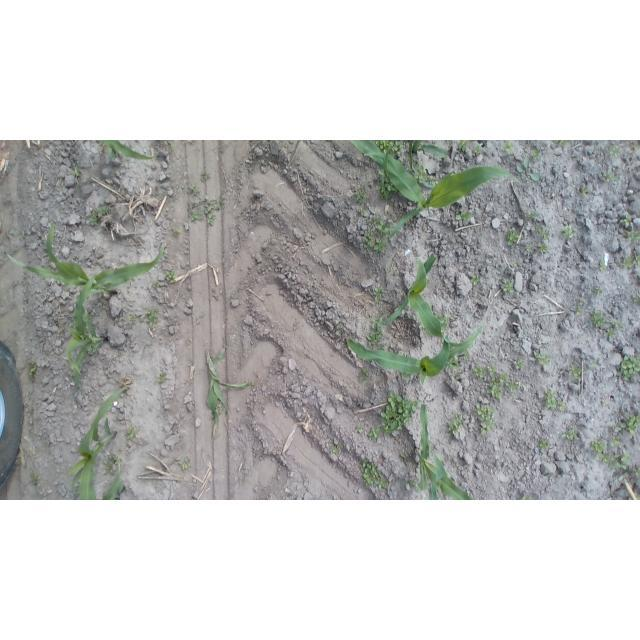Maize: (341, 140, 517, 240), (5, 220, 168, 293), (341, 325, 489, 385), (69, 381, 132, 500), (377, 249, 452, 347), (410, 401, 475, 500), (65, 270, 107, 393), (86, 140, 159, 164), (404, 140, 458, 166)
Weeds: (186, 173, 226, 228), (382, 388, 420, 434), (472, 363, 506, 403), (363, 215, 391, 254), (359, 457, 388, 491), (475, 401, 497, 436), (615, 350, 640, 378), (599, 451, 630, 473), (516, 157, 542, 183), (377, 170, 400, 199), (371, 140, 408, 158), (615, 412, 640, 436), (410, 164, 434, 189), (455, 140, 489, 157), (542, 389, 564, 412), (104, 451, 121, 477), (446, 411, 465, 433), (589, 309, 608, 331), (144, 305, 161, 329), (622, 249, 640, 270), (441, 356, 464, 372), (364, 330, 384, 348), (350, 185, 370, 203), (621, 225, 640, 243), (499, 279, 517, 297), (590, 436, 607, 454), (533, 349, 549, 368), (370, 284, 386, 303), (367, 426, 384, 443), (562, 425, 578, 443), (618, 212, 636, 228), (608, 142, 624, 160), (153, 372, 172, 387), (406, 477, 426, 491), (573, 296, 587, 316), (26, 363, 39, 384), (455, 211, 473, 226), (96, 204, 115, 218), (601, 325, 617, 341), (368, 314, 384, 330), (68, 163, 84, 179), (571, 363, 586, 380), (506, 381, 523, 396), (535, 223, 552, 238), (355, 367, 369, 385), (505, 228, 519, 246), (123, 427, 139, 442), (469, 272, 484, 288), (331, 441, 348, 455), (601, 169, 618, 183), (538, 436, 551, 454), (164, 269, 179, 284), (579, 185, 595, 199), (559, 225, 576, 238), (612, 318, 626, 333), (514, 358, 527, 374), (598, 254, 609, 272), (607, 435, 621, 449), (536, 240, 550, 254), (589, 282, 603, 296), (437, 316, 450, 331), (88, 210, 100, 226), (588, 357, 602, 370), (179, 458, 192, 472), (28, 472, 41, 486), (501, 142, 515, 155), (517, 490, 535, 500), (528, 211, 544, 222), (167, 227, 181, 238), (150, 279, 162, 291), (523, 242, 534, 255), (532, 149, 541, 163), (357, 207, 368, 218), (630, 464, 640, 476)
